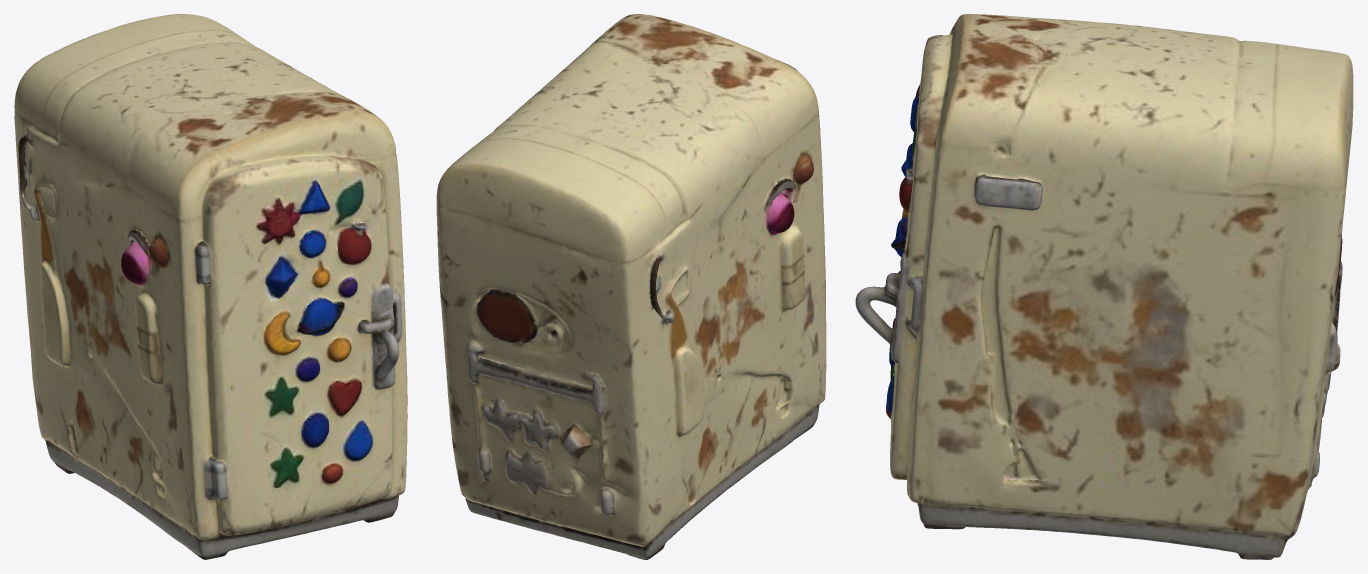
File: neutral_fridge.glb
3 views of the same model, side by side, from view 1: azimuth 30°, elevation 25°; view 2: azimuth 150°, elevation 25°; view 3: azimuth 270°, elevation 25° (orthographic). The views are drawn at different scales.
Bounding box in the file's own units: 0.489 × 0.8223 × 0.794.
Materials: 1 (1 with a texture image).
